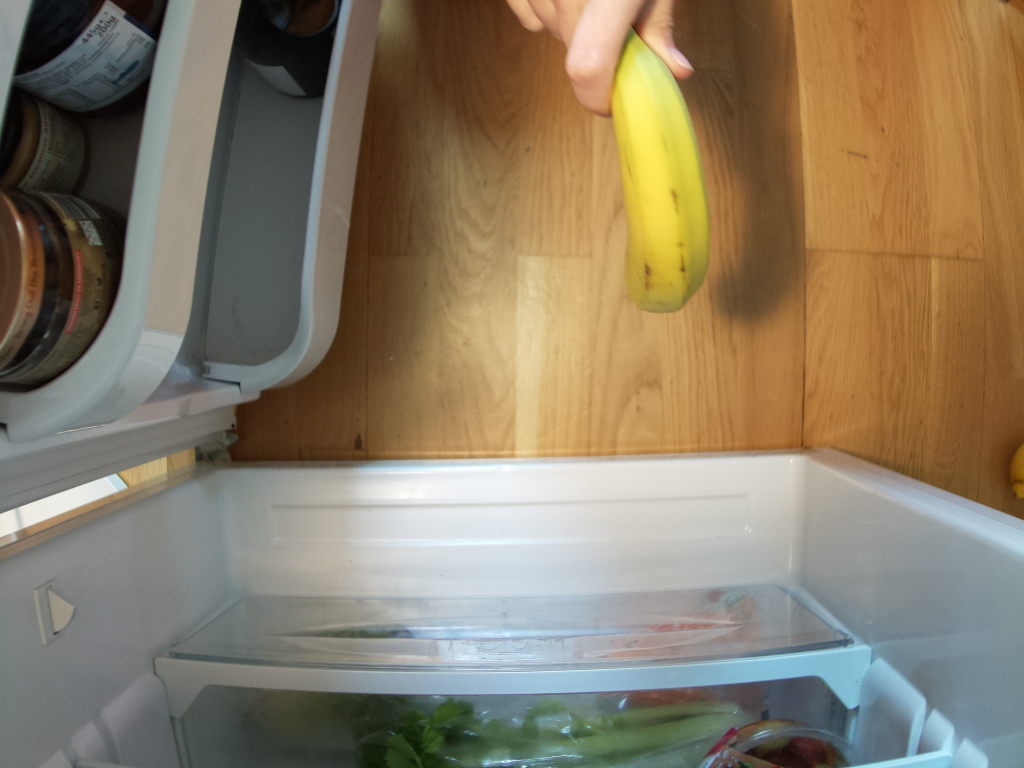banana-unripe: (612, 28, 715, 319)
